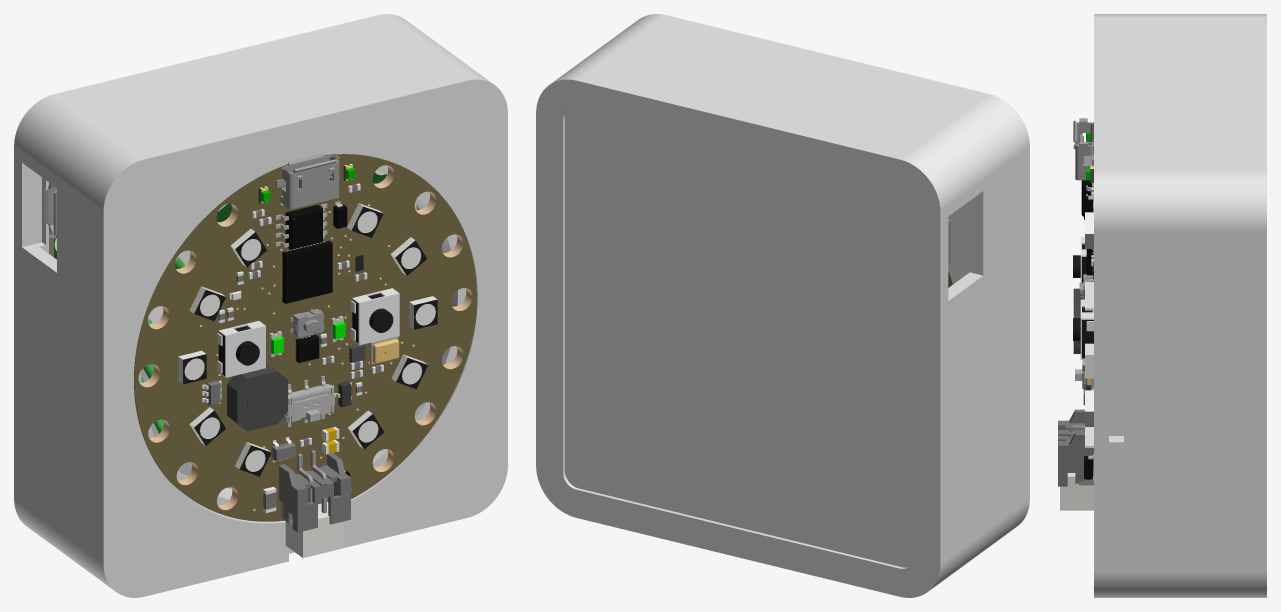
File: StillHere_Assembled.obj
3 renders of one model, left to right at view 1: azimuth 30°, elevation 25°; view 2: azimuth 150°, elevation 25°; view 3: azimuth 270°, elevation 25°, orthographic. The views are drawn at different scales.
Parts seen in each view (by area): view 1: Case_Lid, Case_Base, Body1:11, Body3:3, Body1:26, Body1:16, Body25, Body1:28, JST_Plug, Body1:19, Body1:54, Body1:20 (+11 smaller); view 2: Case_Base, Case_Lid; view 3: Case_Base, Case_Lid, Body3:3, Body1:16, JST_Plug, Body1:26, Body1:21, Body1:58, Body1:56, Body7:5.
Boxes of the visible parts, x1,y1,x2,y2 form: Case_Lid: [95, 73, 507, 597]; Case_Base: [14, 14, 484, 584]; Body1:11: [134, 154, 476, 521]; Body3:3: [279, 453, 350, 532]; Body1:26: [227, 363, 287, 431]; Body1:16: [276, 153, 339, 208]; Body25: [282, 240, 332, 303]; Body1:28: [275, 203, 327, 249]; JST_Plug: [285, 502, 343, 557]; Body1:19: [282, 375, 334, 427]; Body1:54: [352, 288, 399, 345]; Body1:20: [218, 321, 265, 377]; Case_Base: [536, 19, 1021, 597]; Case_Lid: [633, 14, 1029, 531]; Case_Base: [1109, 14, 1266, 597]; Case_Lid: [1094, 14, 1123, 597]; Body3:3: [1058, 409, 1093, 486]; Body1:16: [1073, 118, 1093, 180]; JST_Plug: [1060, 473, 1093, 510]; Body1:26: [1073, 288, 1083, 353]; Body1:21: [1085, 390, 1093, 426]; Body1:58: [1085, 212, 1093, 248]; Body1:56: [1085, 343, 1093, 378]; Body7:5: [1082, 307, 1093, 358].
Size of the model in its own units: 6 by 6.2 by 2.78.
